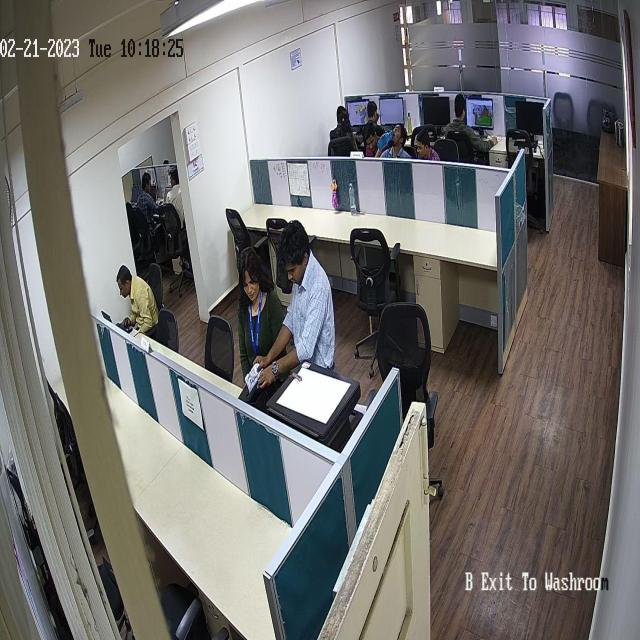chair: (372, 308, 447, 504), (347, 224, 409, 374), (266, 211, 317, 298), (507, 129, 545, 242), (224, 201, 268, 262)
keyboard: (514, 136, 539, 152)
laptop: (102, 304, 134, 337), (130, 178, 140, 206), (161, 182, 171, 206)
monitor: (466, 92, 495, 133), (512, 101, 544, 137), (418, 96, 450, 130), (377, 99, 405, 129), (348, 97, 370, 126)
person: (253, 222, 337, 400), (236, 246, 285, 393), (447, 90, 497, 172), (116, 263, 160, 334), (134, 169, 163, 236), (380, 119, 410, 166), (330, 103, 352, 162), (166, 162, 183, 236), (351, 120, 383, 158), (411, 130, 441, 170)
